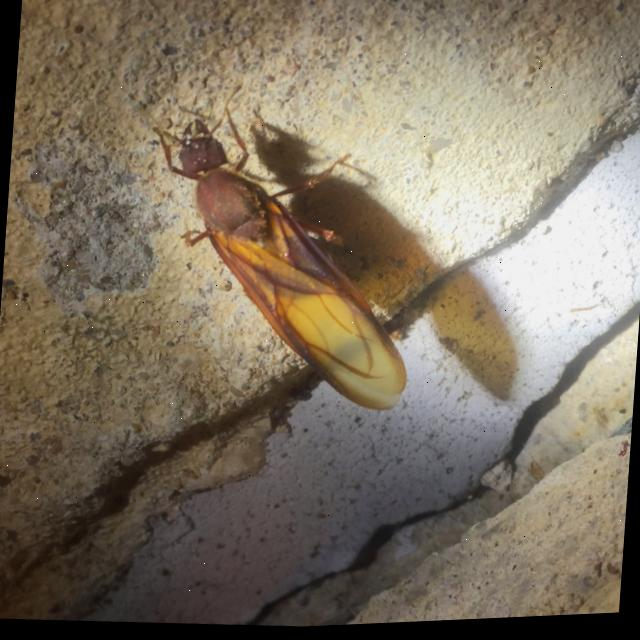Alive-Female-Alate: (130, 74, 428, 425)
